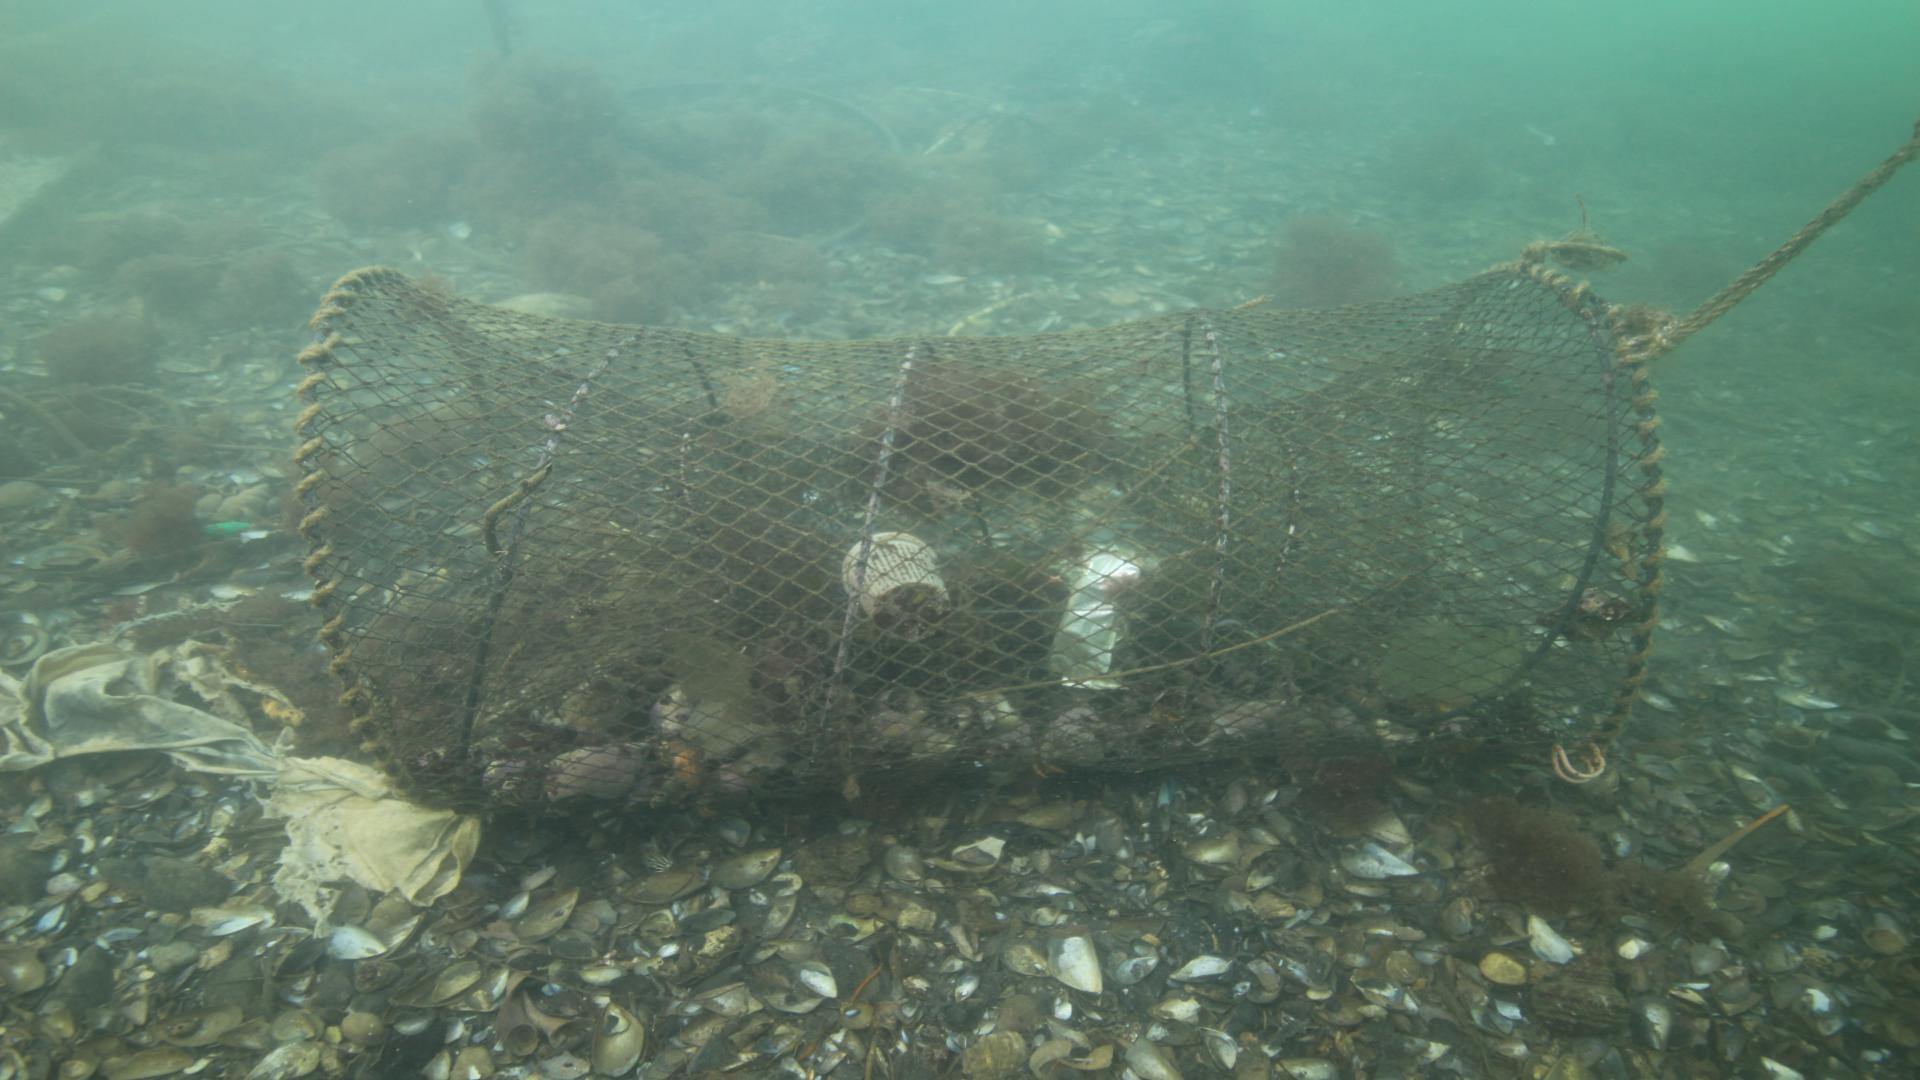bundle of ropes: (1652, 123, 1920, 345)
spring fish trap: (291, 257, 1665, 819)
